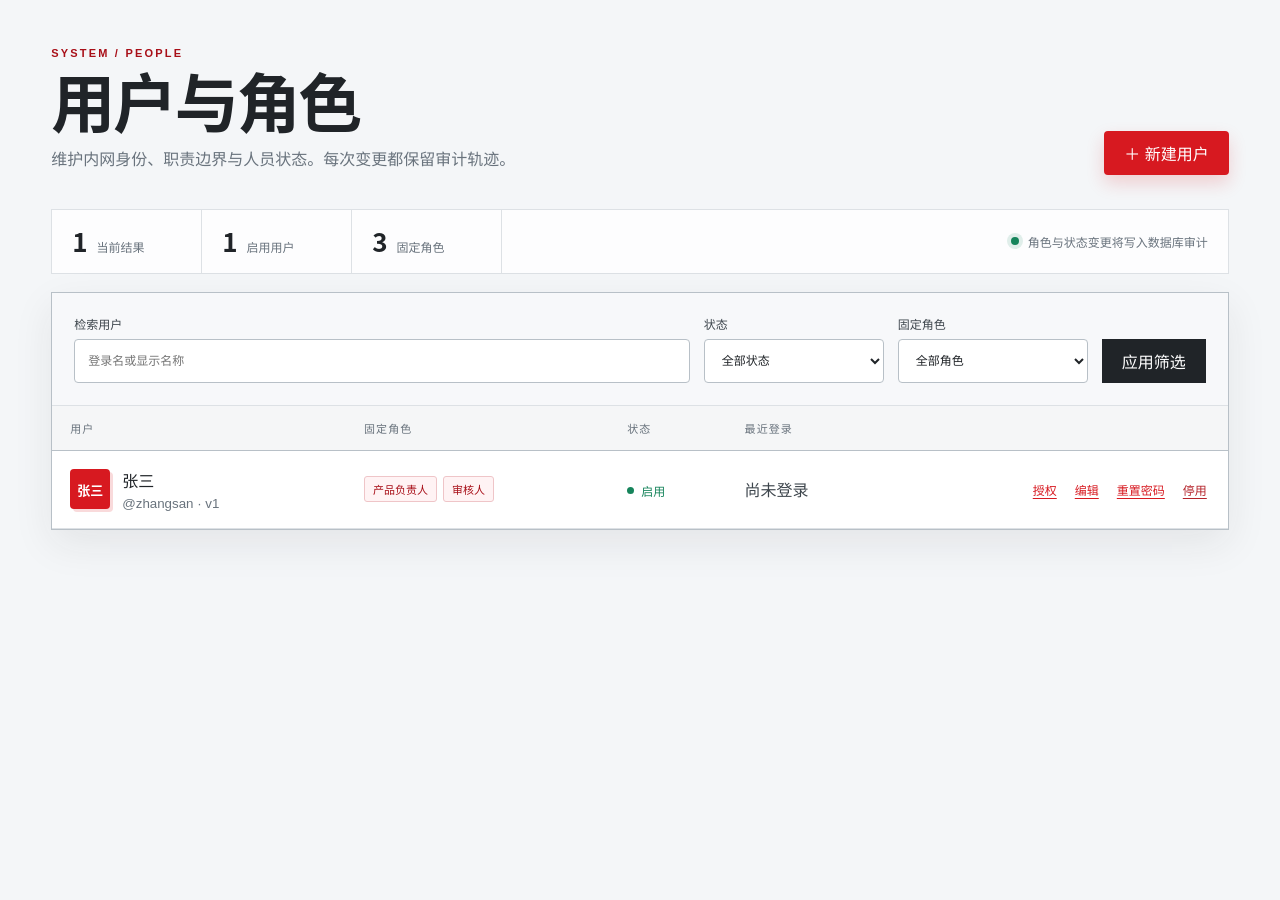
Test: UserAdminPage › opens product scope configuration for a selected user
Click the button with aria-label "配置张三产品授权" at (1045, 489), box [1030,478,1060,500]
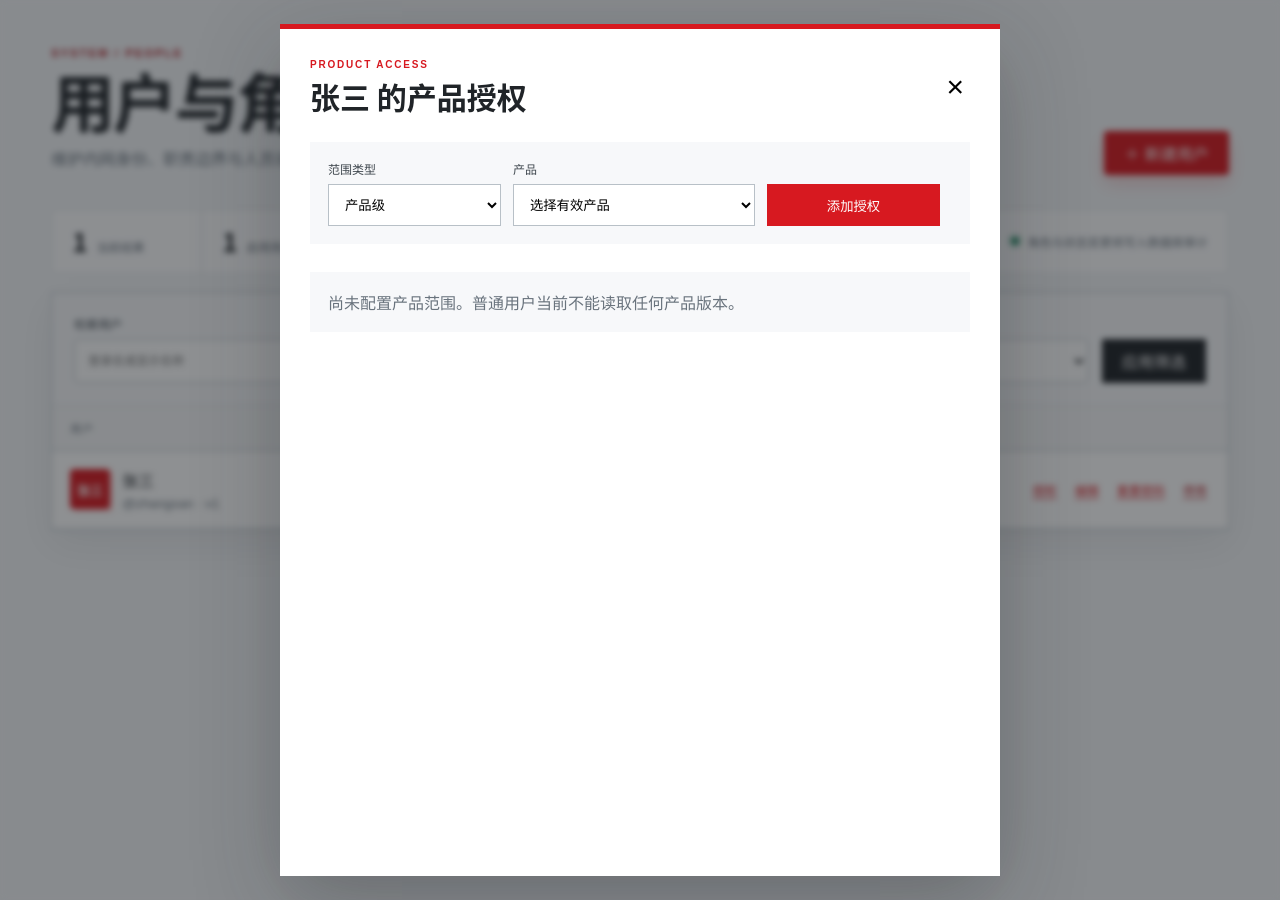
Expected: the heading "张三 的产品授权" is shown, [310,78,527,114]
Expected: the text "尚未配置产品范围。普通用户当前不能读取任何产品版本。" is shown, [310,272,970,332]
